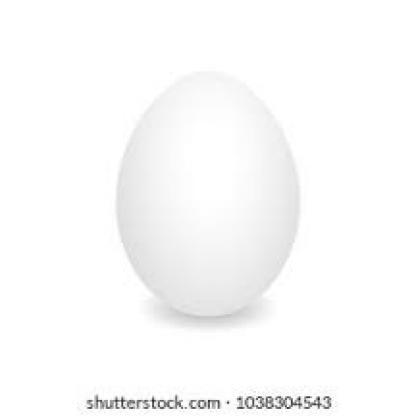egg: (109, 68, 306, 322)
